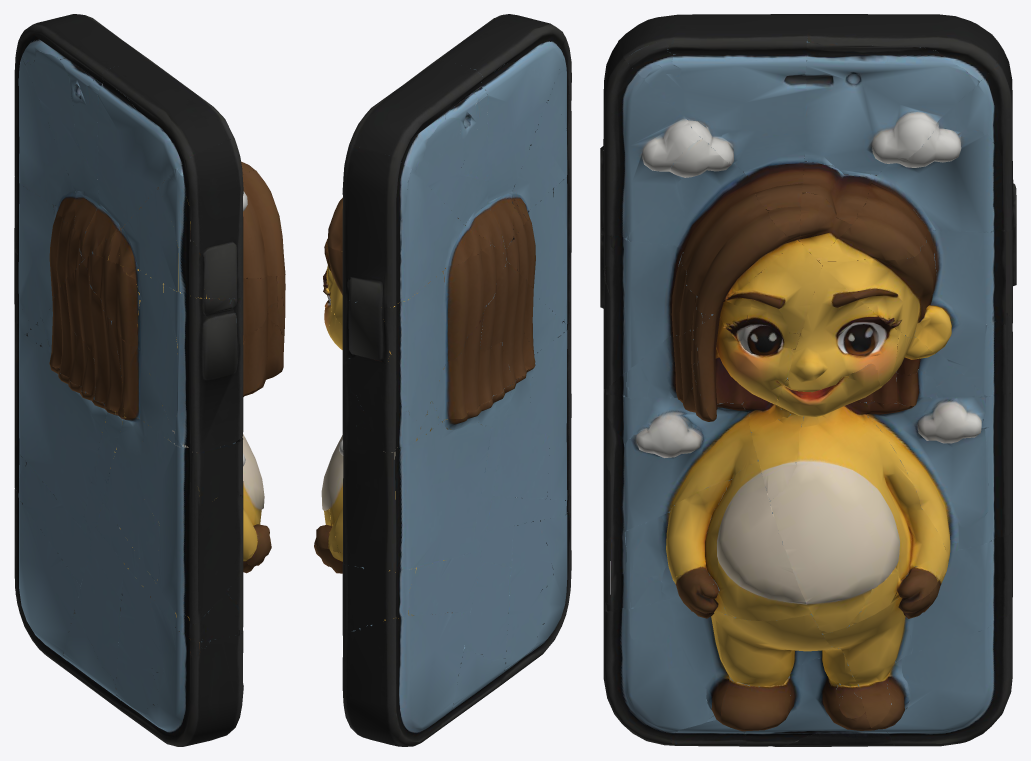
The model's file is naibao_phone_happy.fbx.
The picture shows the model from 3 angles, left to right: view 1: azimuth 30°, elevation 25°; view 2: azimuth 150°, elevation 25°; view 3: azimuth 270°, elevation 25°; orthographic projection. The views are drawn at different scales.
Parts seen in each view (by area): view 1: node_313dedc2-2a60-4704-96ef-5225b56ac908; view 2: node_313dedc2-2a60-4704-96ef-5225b56ac908; view 3: node_313dedc2-2a60-4704-96ef-5225b56ac908.
Boxes of the visible parts, x1,y1,x2,y2 form: node_313dedc2-2a60-4704-96ef-5225b56ac908: (14, 14, 285, 746); node_313dedc2-2a60-4704-96ef-5225b56ac908: (314, 14, 571, 746); node_313dedc2-2a60-4704-96ef-5225b56ac908: (600, 14, 1016, 746).
Size of the model in its own units: 0.291 by 0.9995 by 0.5288.
